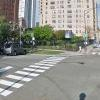Crosswalk: (0, 50, 65, 94)
